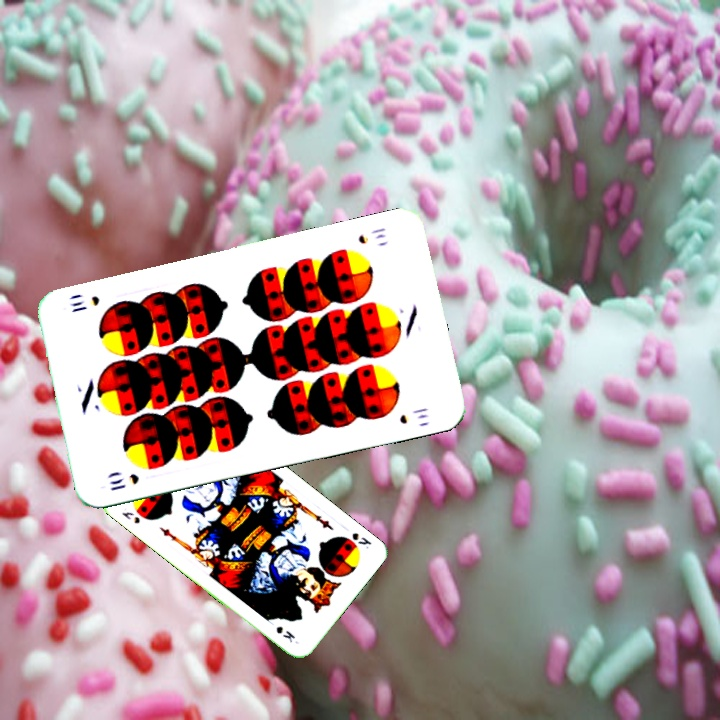S10: (105, 469, 142, 494), (354, 223, 389, 247)
SK: (348, 528, 374, 551), (118, 507, 143, 526)
